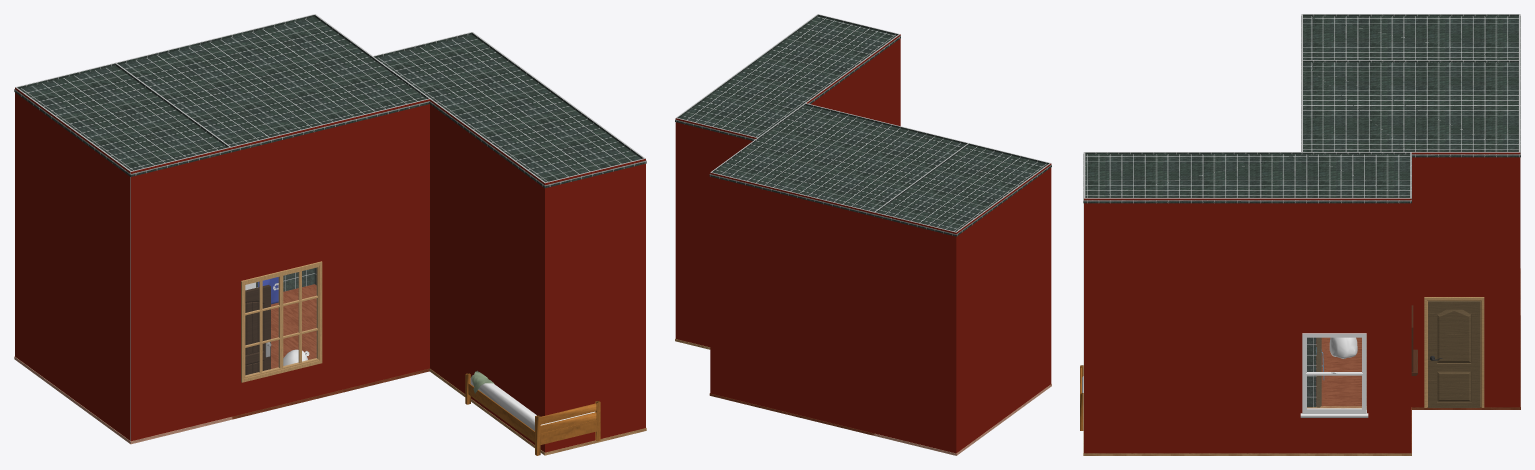
File: ProcTHOR-Train-41.glb
The picture shows the model from 3 angles, left to right: view 1: azimuth 30°, elevation 25°; view 2: azimuth 150°, elevation 25°; view 3: azimuth 270°, elevation 25°; orthographic projection. The views are drawn at different scales.
Visible parts, largest first — view 1: WallInside#wall|exterior|1.89|3.77|5.66|3.77, WallInside#wall|exterior|7.54|0.00|7.54|3.77, WallInside#wall|exterior|1.89|3.77|1.89|7.54, WallInside#wall|exterior|5.66|3.77|7.54|3.77, WallInside#wall|exterior|0.00|7.54|1.89|7.54, Ceiling#room|6|c, Ceiling#room|2|c, Ceiling#room|7|c, Bed_26_2, Window_Fixed_60x72, Floor#room|6|f, Doorway_Door_9b (+3 smaller); view 2: WallInside#wall|exterior|1.89|0.00|5.66|0.00, WallInside#wall|exterior|7.54|0.00|7.54|3.77, WallInside#wall|exterior|5.66|0.00|7.54|0.00, Ceiling#room|6|c, Ceiling#room|2|c, WallInside#wall|exterior|0.00|1.89|1.89|1.89, Ceiling#room|7|c, WallInside#wall|exterior|1.89|3.77|1.89|7.54, Floor#room|7|f, Floor#room|6|f, WallInside#wall|6|1.89|3.77|5.66|3.77, WallInside#wall|2|0.00|1.89|0.00|7.54; view 3: WallInside#wall|exterior|0.00|1.89|0.00|7.54, WallInside#wall|exterior|1.89|0.00|1.89|1.89, Ceiling#room|6|c, Ceiling#room|2|c, Ceiling#room|7|c, Doorway_6, Floor#room|6|f, Window_Hung_44x60, Floor#room|2|f, WallInside#wall|2|1.89|1.89|1.89|3.77, WallInside#wall|2|1.89|3.77|1.89|7.54, WallInside#wall|7|7.54|0.00|7.54|3.77 (+2 smaller).
Part boxes in pixels (<box>): WallInside#wall|exterior|1.89|3.77|5.66|3.77: <box>230,99,429,416</box>; WallInside#wall|exterior|7.54|0.00|7.54|3.77: <box>15,87,130,440</box>; WallInside#wall|exterior|1.89|3.77|1.89|7.54: <box>430,99,544,452</box>; WallInside#wall|exterior|5.66|3.77|7.54|3.77: <box>131,147,230,441</box>; WallInside#wall|exterior|0.00|7.54|1.89|7.54: <box>545,158,645,452</box>; Ceiling#room|6|c: <box>115,17,429,151</box>; Ceiling#room|2|c: <box>371,34,646,187</box>; Ceiling#room|7|c: <box>14,65,232,176</box>; Bed_26_2: <box>465,371,600,455</box>; Window_Fixed_60x72: <box>241,261,322,382</box>; Floor#room|6|f: <box>232,284,429,419</box>; Doorway_Door_9b: <box>245,285,270,375</box>; WallInside#wall|exterior|1.89|0.00|5.66|0.00: <box>710,172,874,433</box>; WallInside#wall|exterior|7.54|0.00|7.54|3.77: <box>956,163,1051,453</box>; WallInside#wall|exterior|5.66|0.00|7.54|0.00: <box>873,212,956,453</box>; Ceiling#room|6|c: <box>709,105,967,216</box>; Ceiling#room|2|c: <box>675,16,900,140</box>; WallInside#wall|exterior|0.00|1.89|1.89|1.89: <box>675,118,757,347</box>; Ceiling#room|7|c: <box>873,145,1051,236</box>; WallInside#wall|exterior|1.89|3.77|1.89|7.54: <box>806,34,900,126</box>; Floor#room|7|f: <box>873,384,1051,455</box>; Floor#room|6|f: <box>709,393,874,435</box>; WallInside#wall|6|1.89|3.77|5.66|3.77: <box>805,103,968,144</box>; WallInside#wall|2|0.00|1.89|0.00|7.54: <box>677,14,818,118</box>; WallInside#wall|exterior|0.00|1.89|0.00|7.54: <box>1084,198,1411,453</box>; WallInside#wall|exterior|1.89|0.00|1.89|1.89: <box>1411,152,1520,407</box>; Ceiling#room|6|c: <box>1301,62,1520,157</box>; Ceiling#room|2|c: <box>1083,154,1411,203</box>; Ceiling#room|7|c: <box>1301,16,1520,62</box>; Doorway_6: <box>1424,297,1484,407</box>; Floor#room|6|f: <box>1316,315,1520,409</box>; Window_Hung_44x60: <box>1300,333,1368,417</box>; Floor#room|2|f: <box>1083,406,1411,455</box>; WallInside#wall|2|1.89|1.89|1.89|3.77: <box>1301,152,1411,407</box>; WallInside#wall|2|1.89|3.77|1.89|7.54: <box>1085,152,1302,154</box>; WallInside#wall|7|7.54|0.00|7.54|3.77: <box>1302,14,1519,16</box>.
Size of what is drawn, in the model's own units: 7.68 by 4.92 by 7.64.
Materials: 166 (73 with a texture image).
